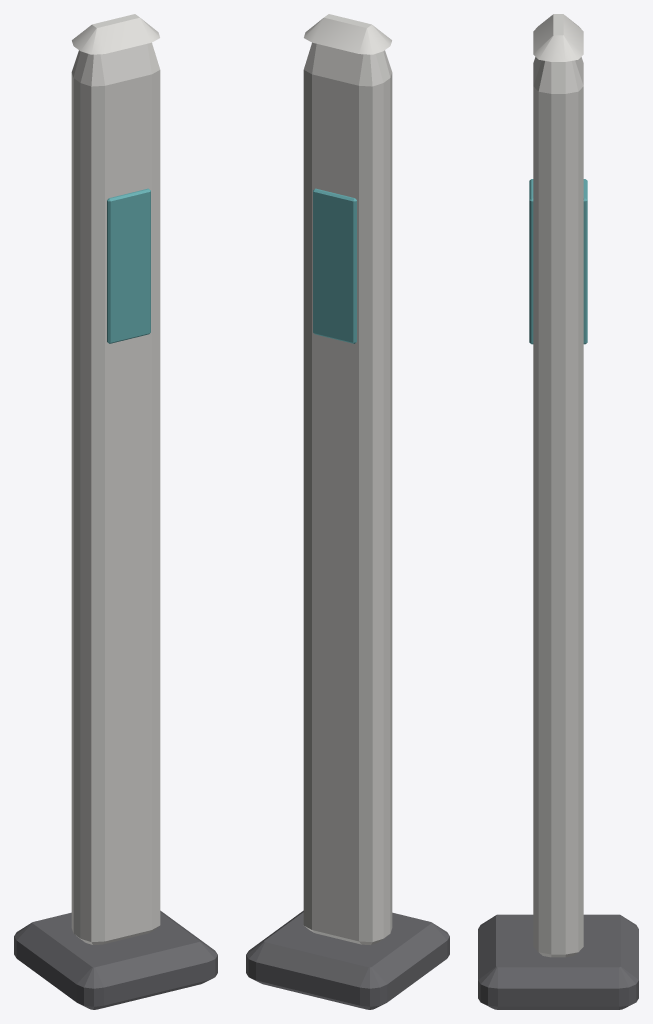
The model's file is fast-food-and-drive-thru-lane-marker-post-1ce61347__16203.glb.
The picture shows the model from 3 angles, left to right: view 1: azimuth 30°, elevation 25°; view 2: azimuth 150°, elevation 25°; view 3: azimuth 270°, elevation 25°; orthographic projection.
Parts seen in each view (by area): view 1: lane-marker-post; view 2: lane-marker-post; view 3: lane-marker-post.
Part boxes in pixels (bbox=[...]): lane-marker-post: bbox=[14, 14, 217, 1009]; lane-marker-post: bbox=[246, 14, 449, 1009]; lane-marker-post: bbox=[478, 14, 638, 1009].
Size of the model in its own units: 0.16 by 1.05 by 0.16.
